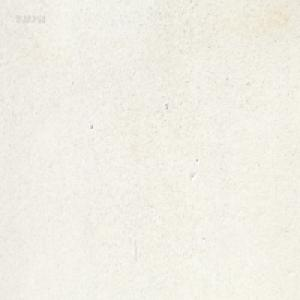Washer: (164, 102, 168, 109)
